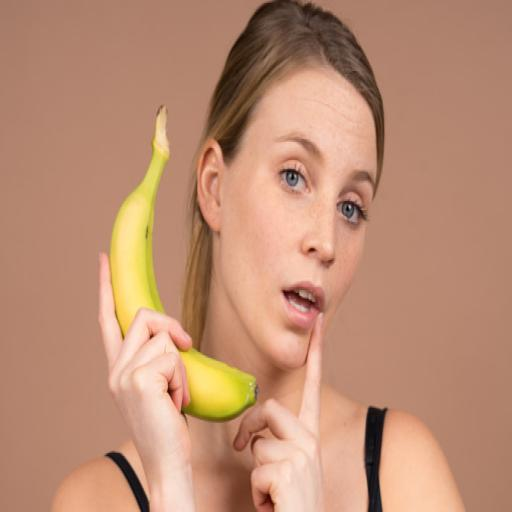banana: (110, 106, 168, 335)
